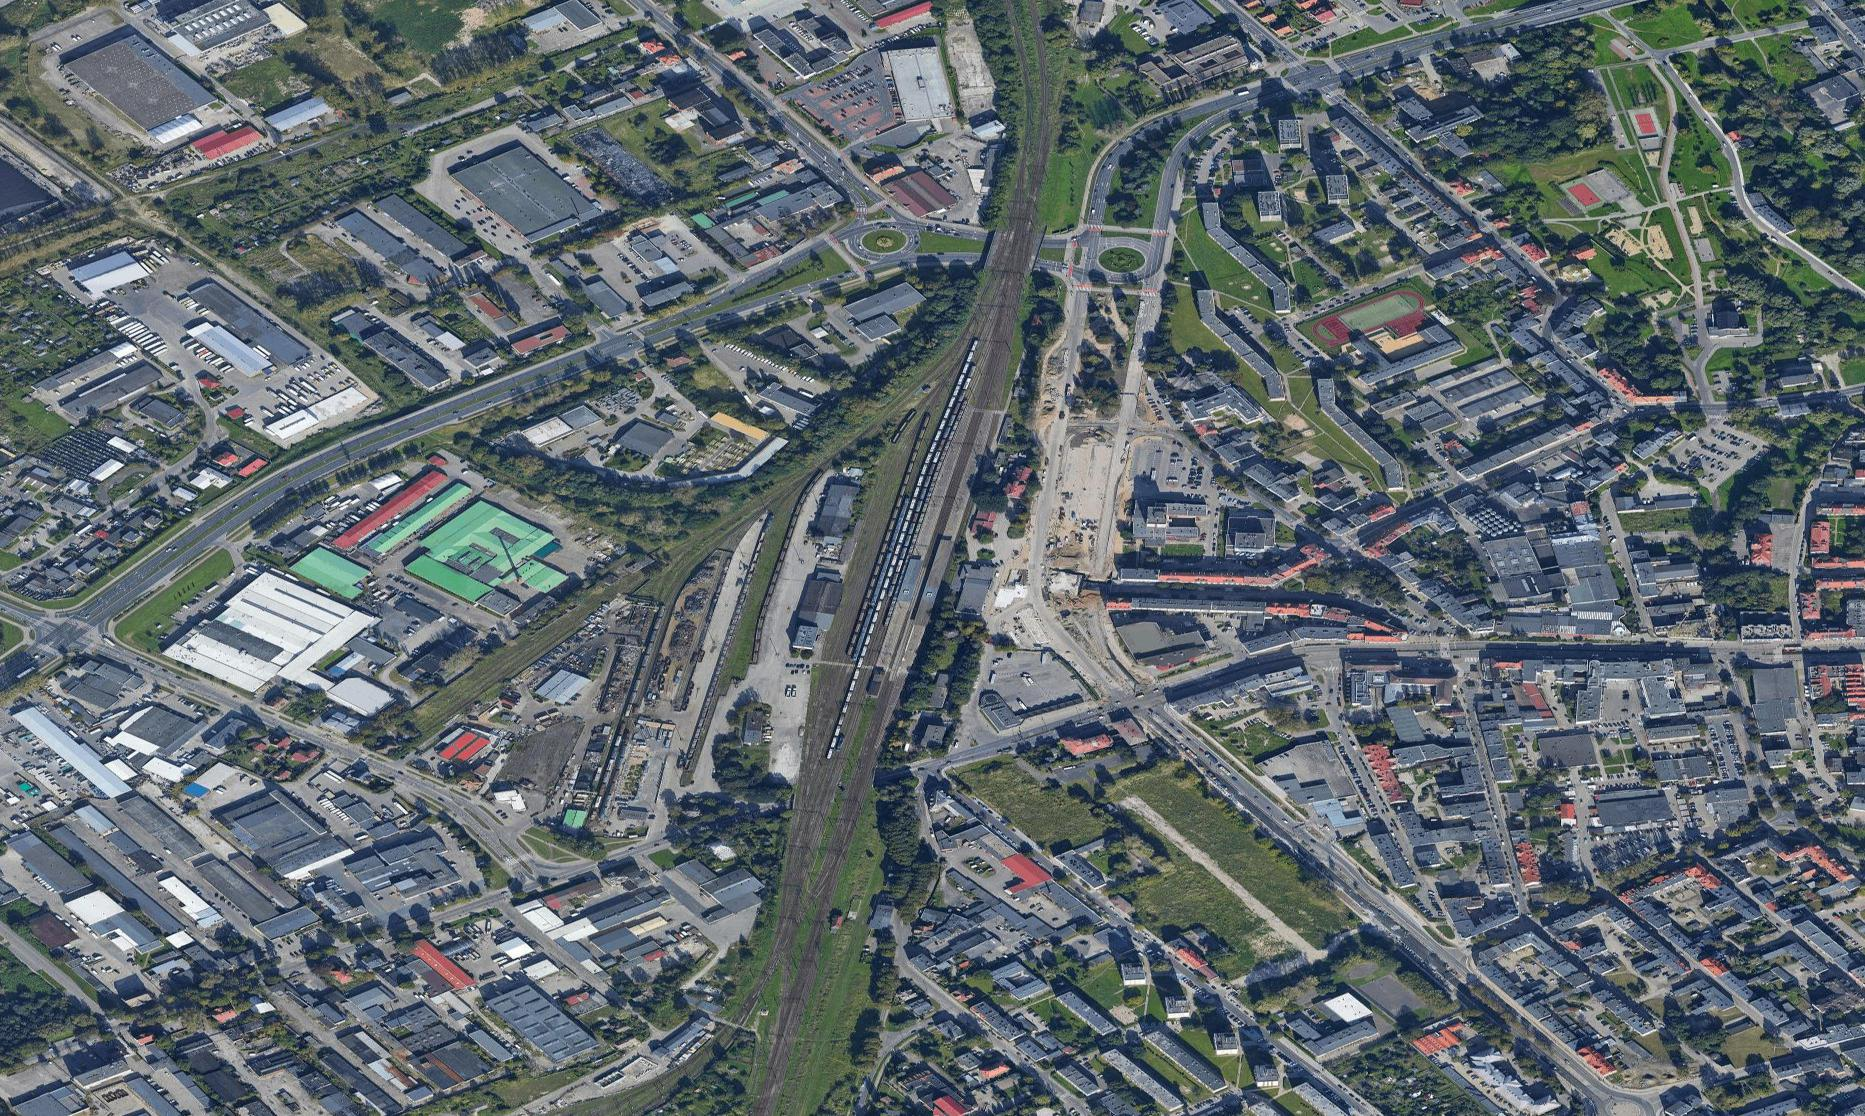industrial: (11, 676, 400, 1069)
train_station: (777, 436, 990, 694)
